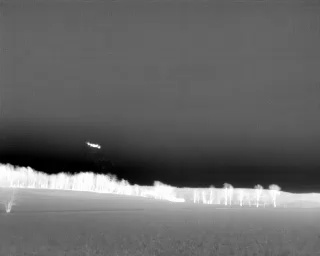DRONE: (82, 137, 105, 154)
